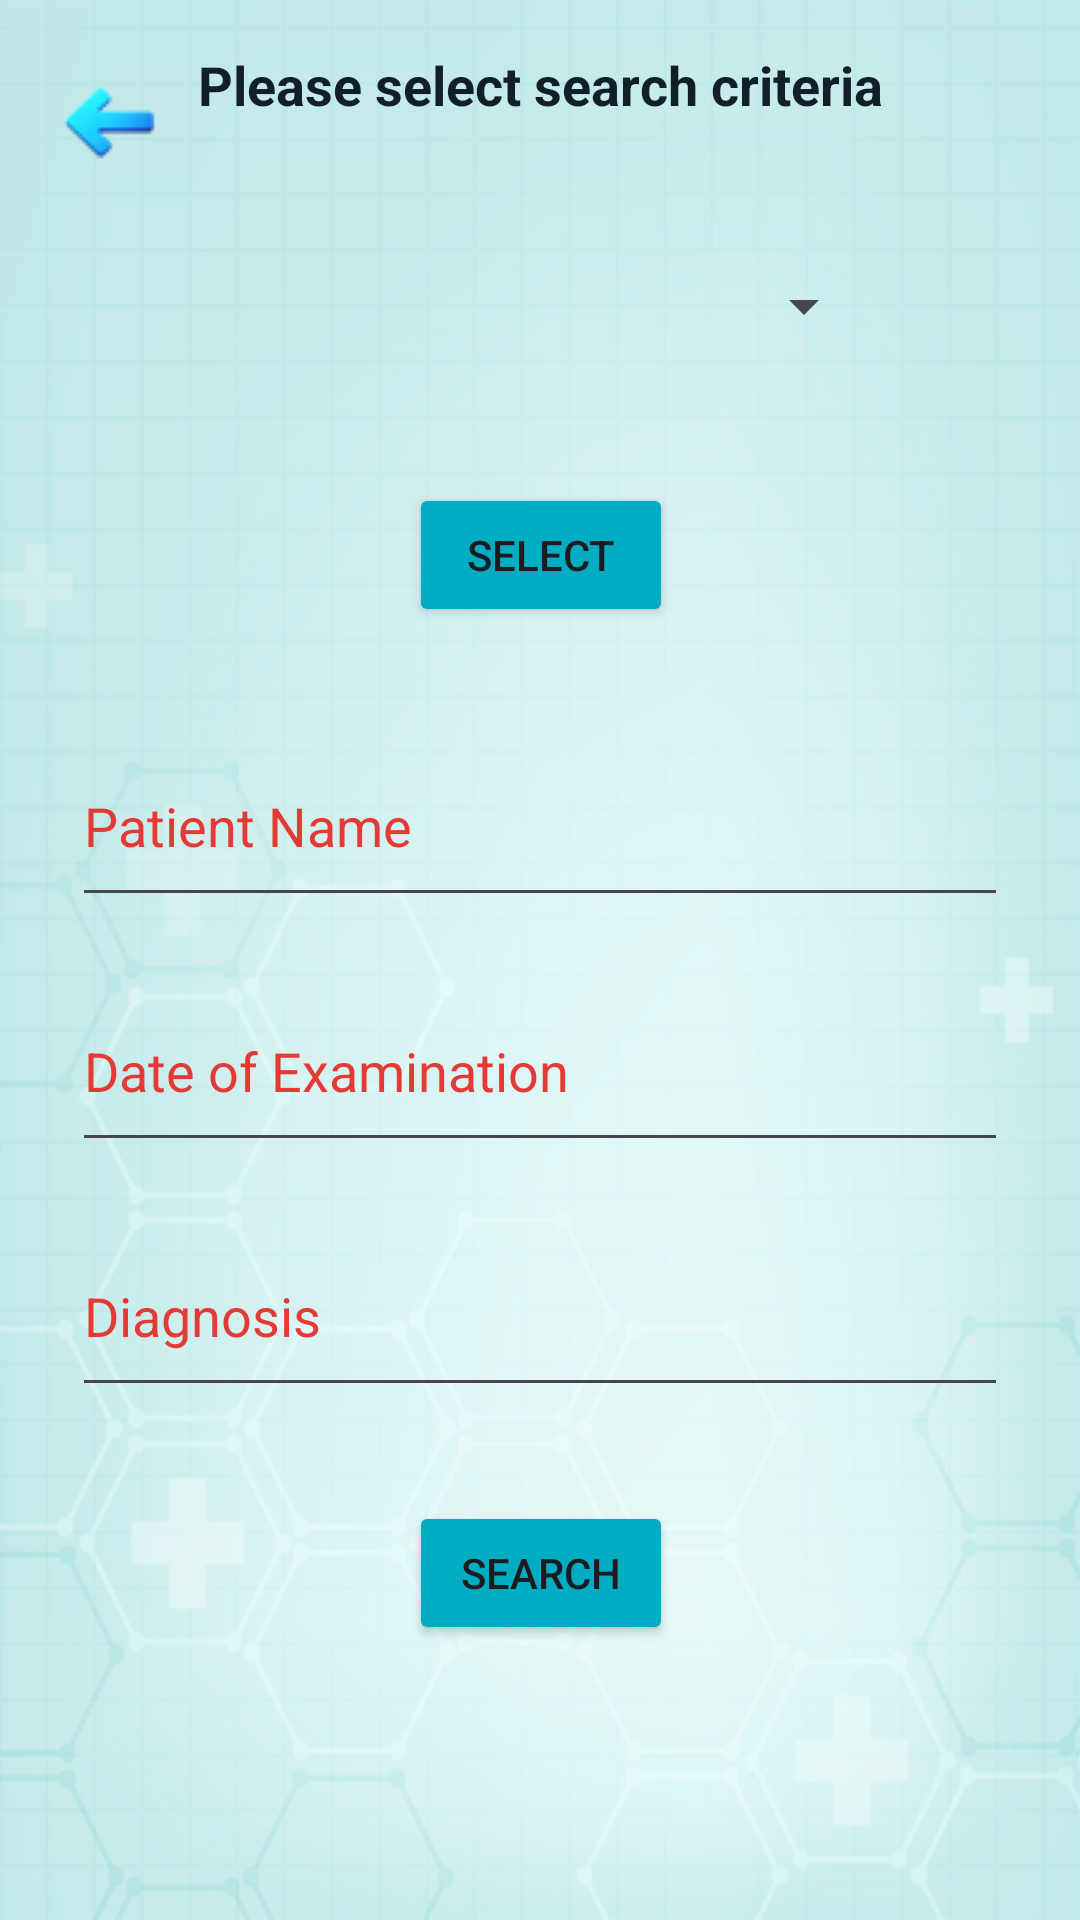

Where to tap for icons on this 1080x1920 app screen, as [x,y]:
Back: [109,123]
